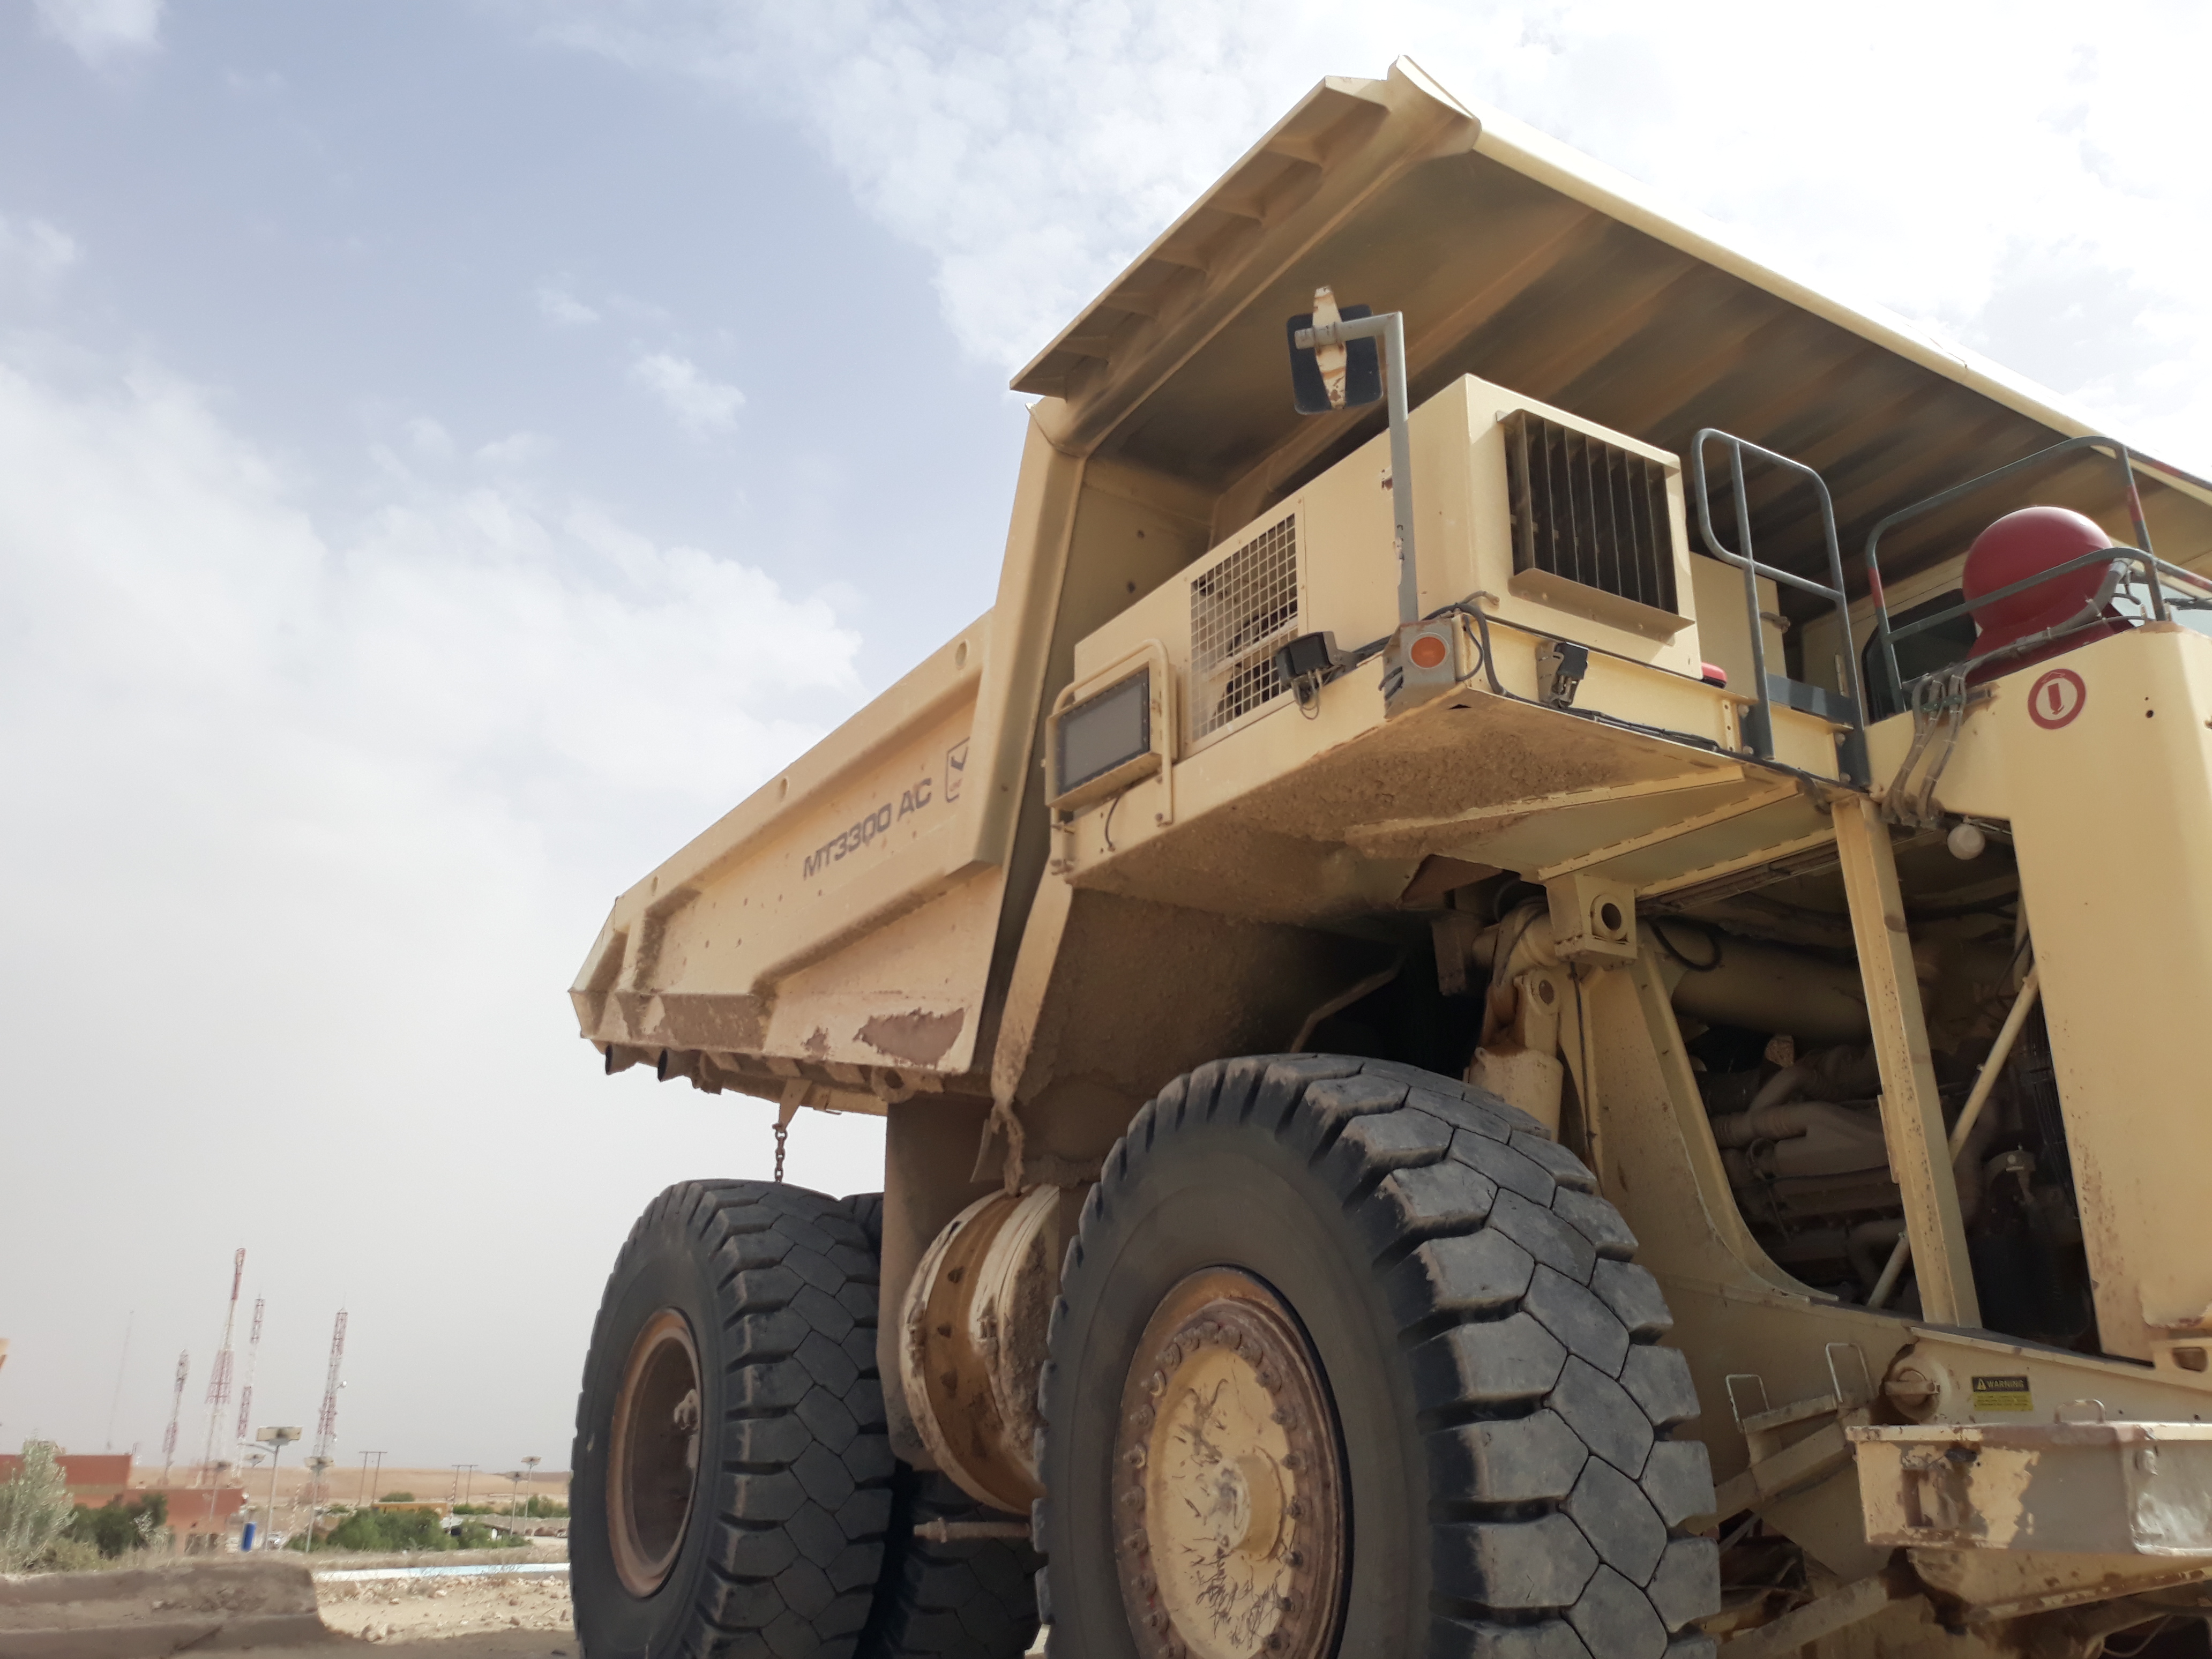camion: (547, 92, 2212, 1640)
